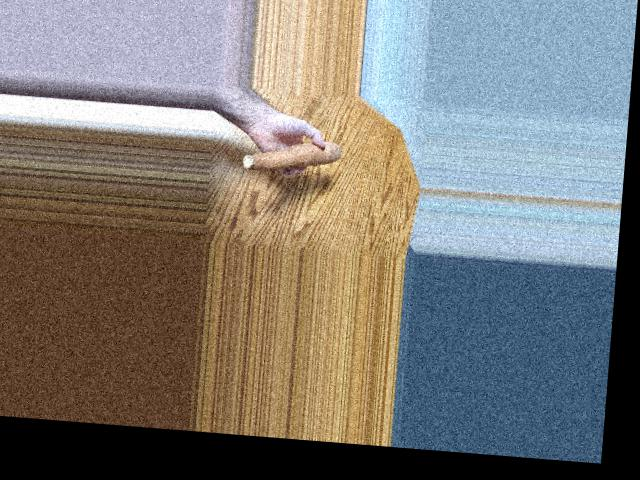sweet_potato: (238, 141, 347, 175)
